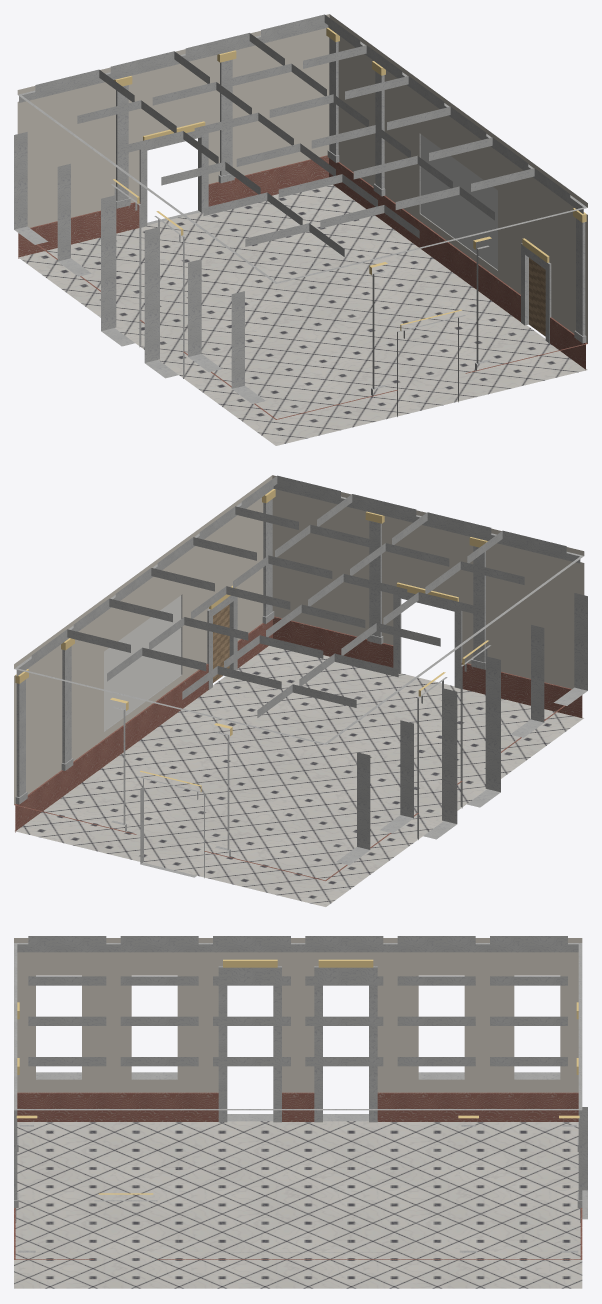
File: hall.glb
The picture shows the model from 3 angles, top to bottom: view 1: azimuth 30°, elevation 25°; view 2: azimuth 150°, elevation 25°; view 3: azimuth 270°, elevation 25°; orthographic projection. The views are drawn at different scales.
Visible parts, largest first — view 1: hall; view 2: hall; view 3: hall.
Boxes of the visible parts, x1,y1,x2,y2 form: hall: (14,14,587,445); hall: (14,475,587,906); hall: (14,936,587,1288).
Size of the model in its own units: 14.5 by 7.4 by 20.
Materials: 9 (5 with a texture image).
